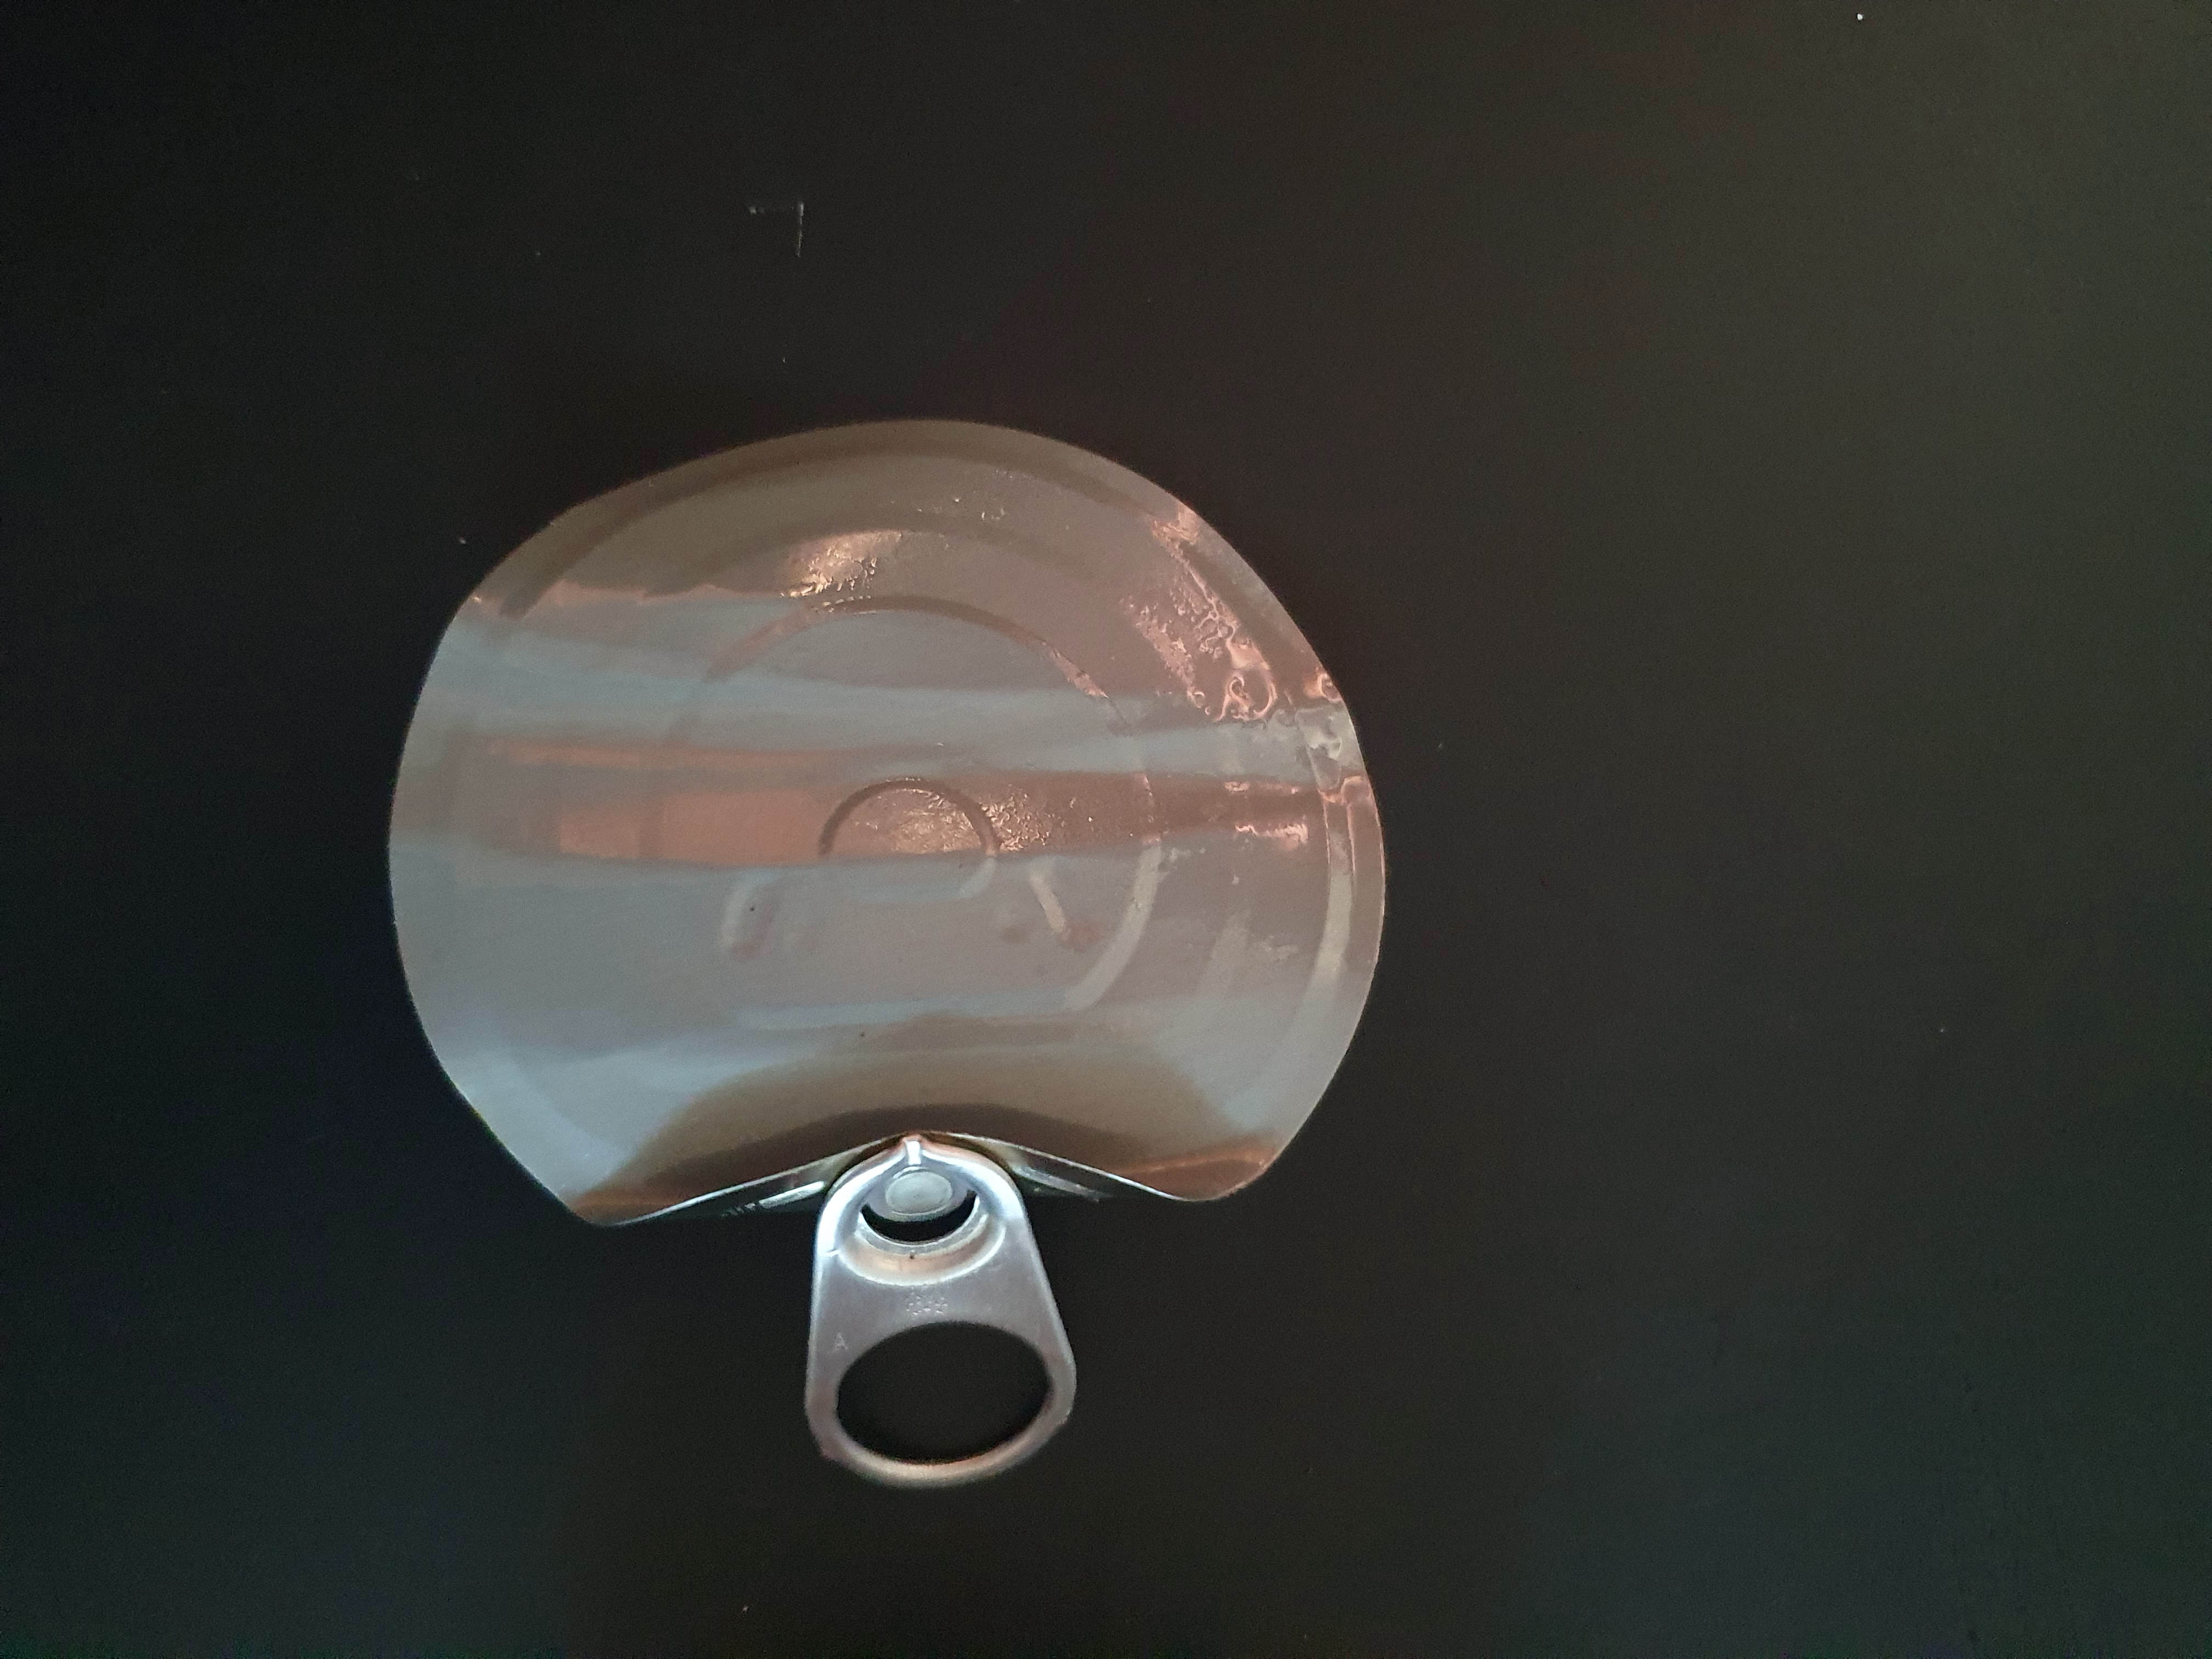metal: (272, 364, 1465, 1518)
